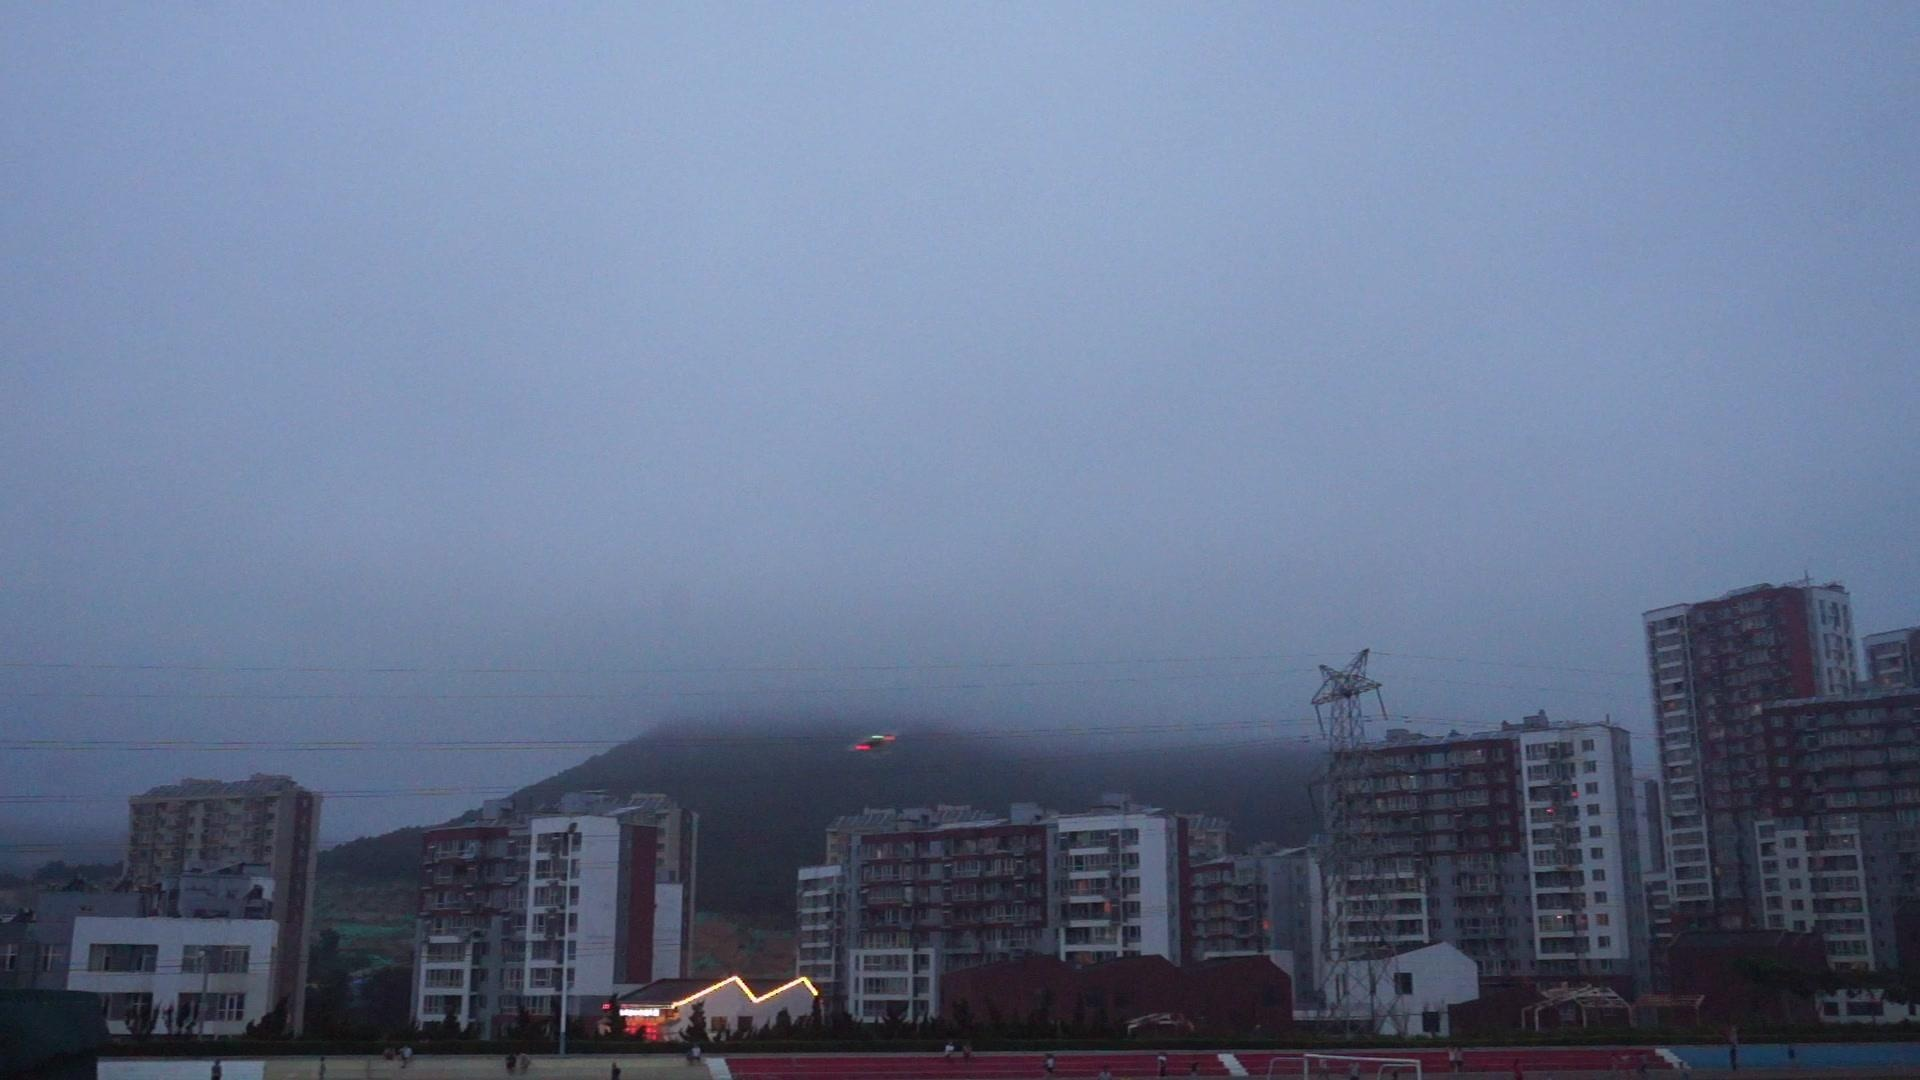UAV: (848, 735, 898, 753)
